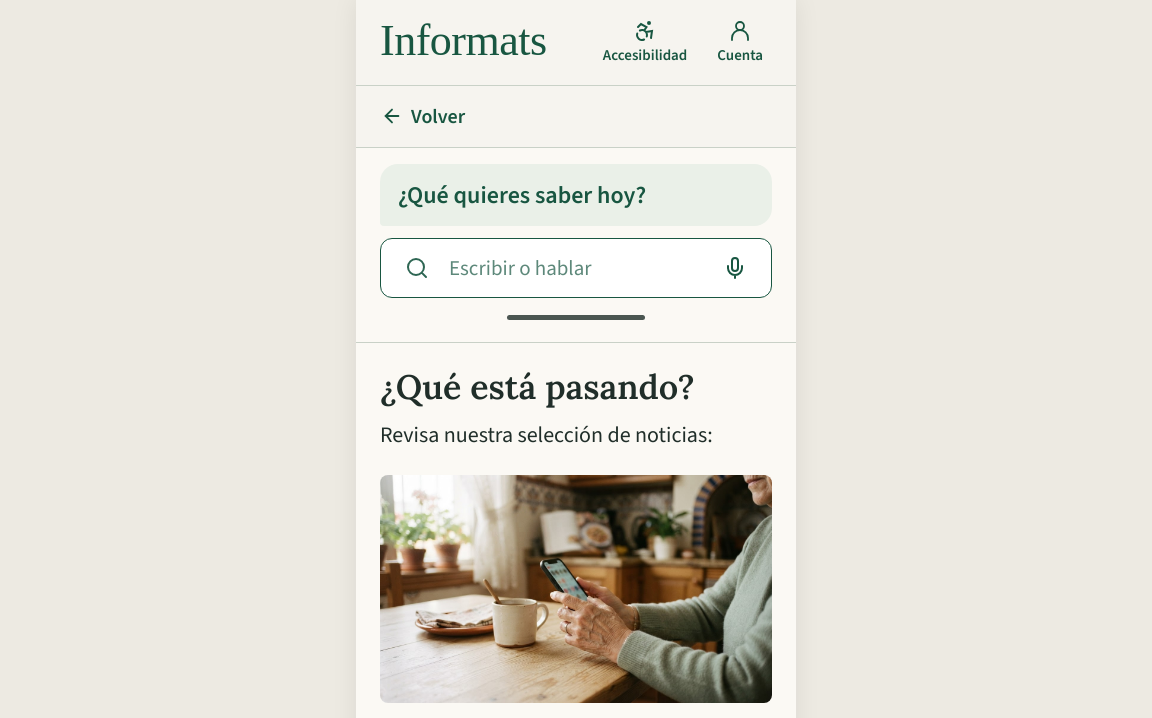
Scenario: Informats - Pantalla «Inicio · Hoy, con claridad» › opens and closes accessibility settings dialog
The image size is (1152, 718).
Click the button "Accesibilidad": [645, 41] box [594,12,696,70]
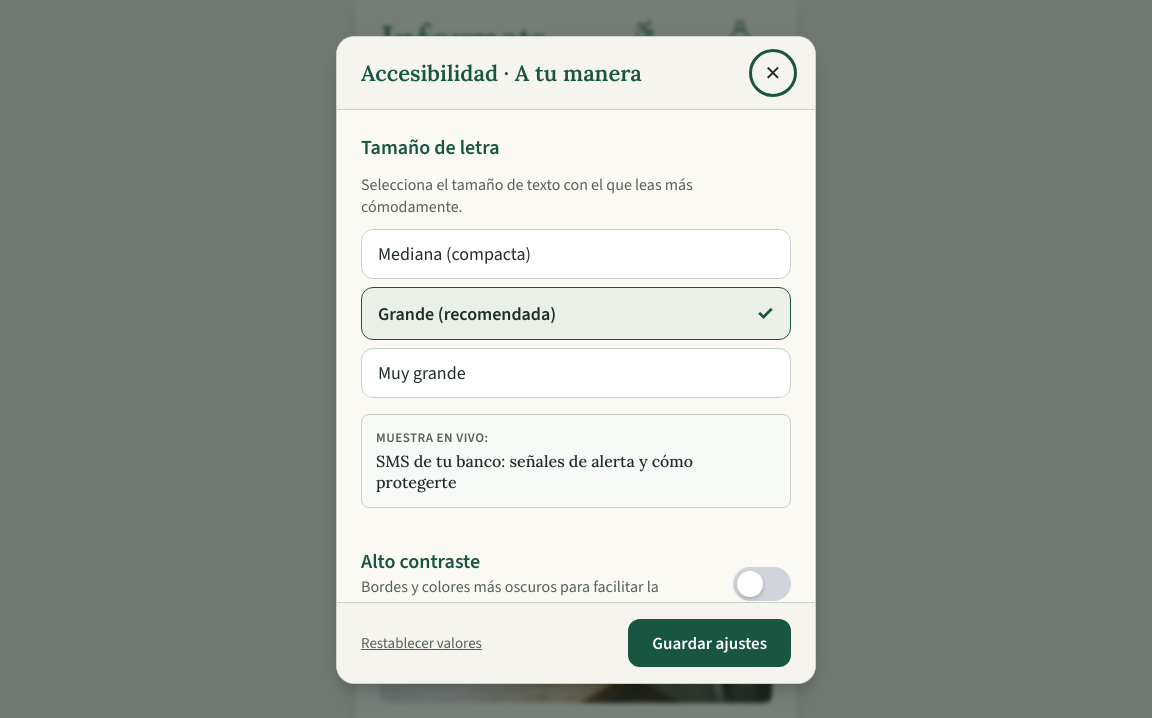
Check: the dialog "Accesibilidad · A tu manera" is shown, box [336,36,816,684]
Check: the heading "Tamaño de letra" is shown, box [361,134,500,161]
Check: the heading "Alto contraste" is shown, box [361,548,480,575]
Note: Guardar ajustes
Click the button "Guardar ajustes": [710, 643] box [628,619,791,667]
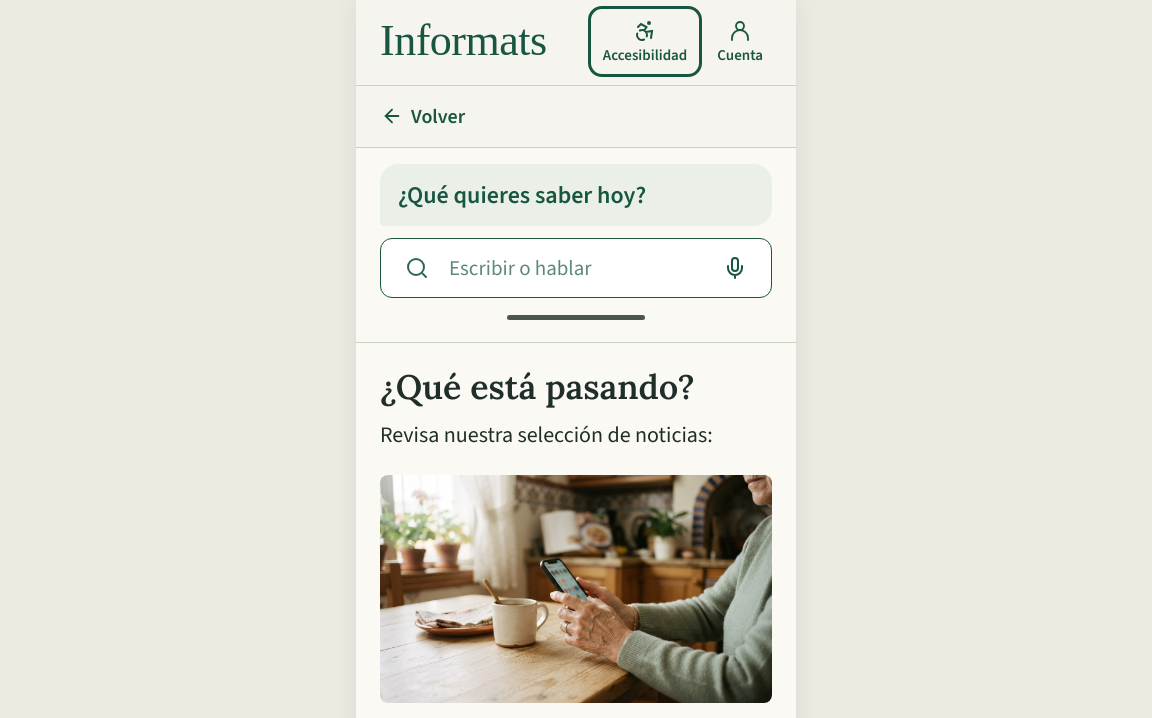
Check: the dialog is gone
